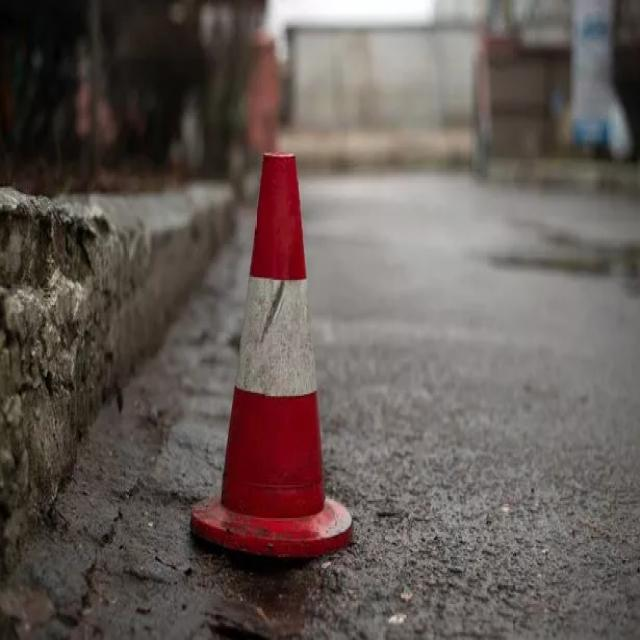Traffic Cone: (176, 71, 380, 595)
